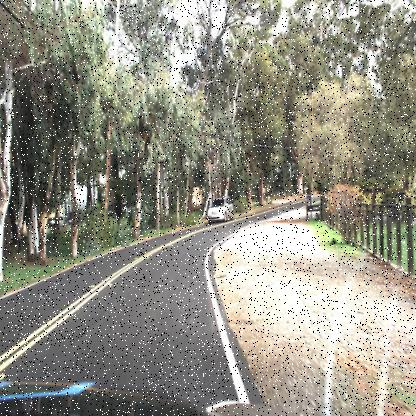car: (202, 194, 238, 228)
